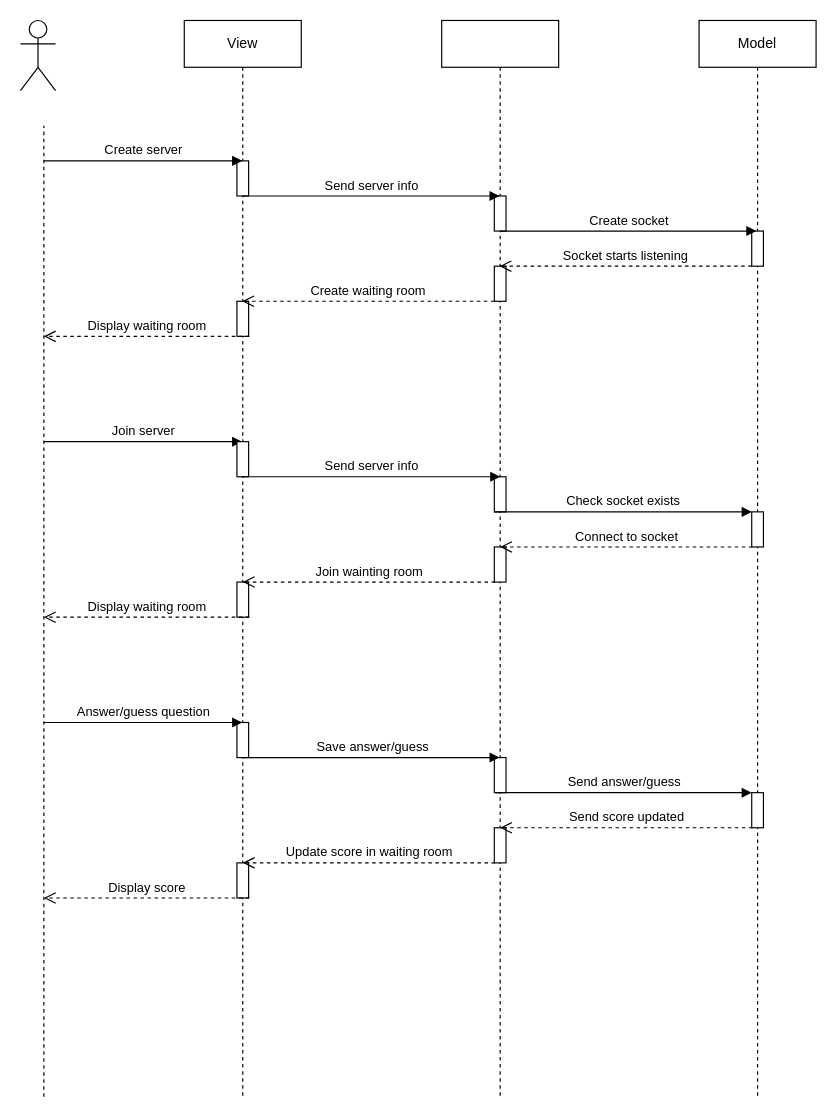
Some shapes in this 837 by 1119 pixel diagram are drawn without their labels. Here are the shapes that lost their labels. From the top down, the centre of each, then its label:
At pixel 37 55: "Actor".
At pixel 500 558: "ViewModel".
